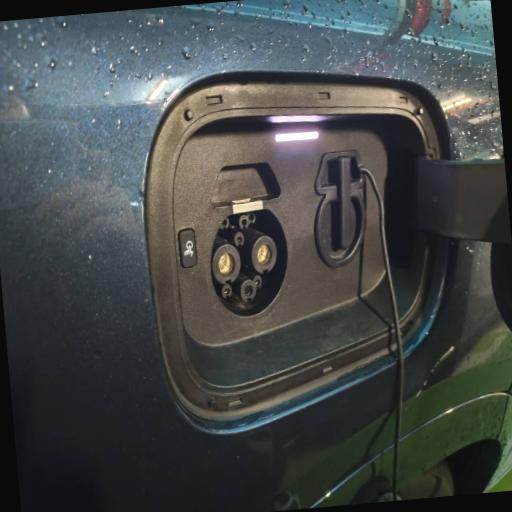DC_hole: (210, 242, 243, 286), (248, 232, 280, 276)
PE: (238, 278, 259, 306)
charging_port: (204, 203, 296, 322)
